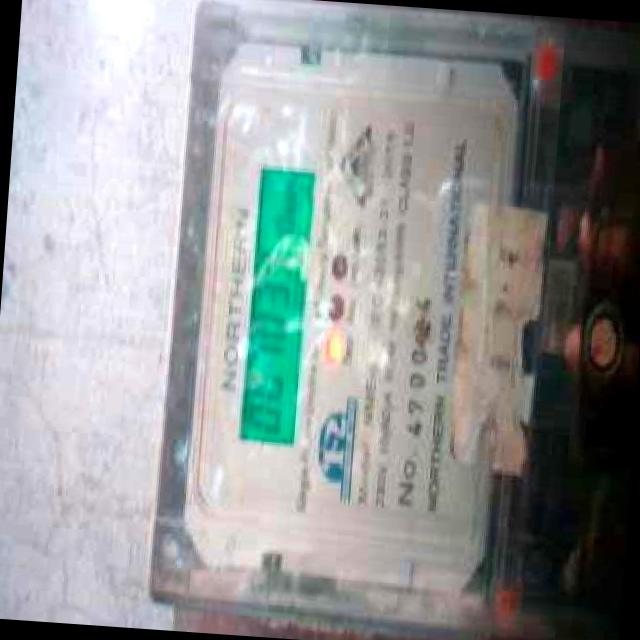LCD: (224, 146, 326, 460)
